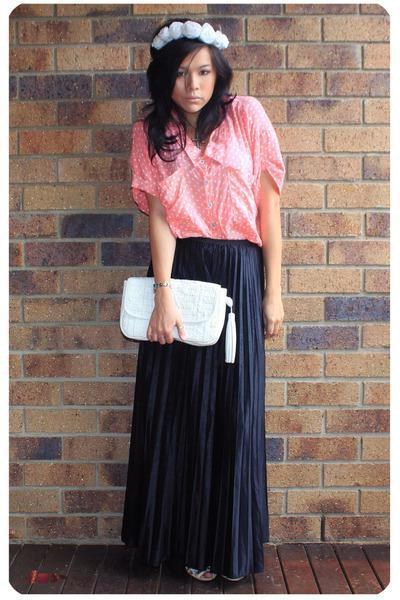short sleeve shirt: (128, 93, 288, 248)
skirt: (115, 231, 273, 577)
